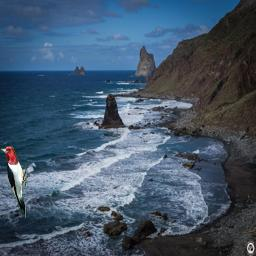Woodpecker: (0, 146, 30, 218)
